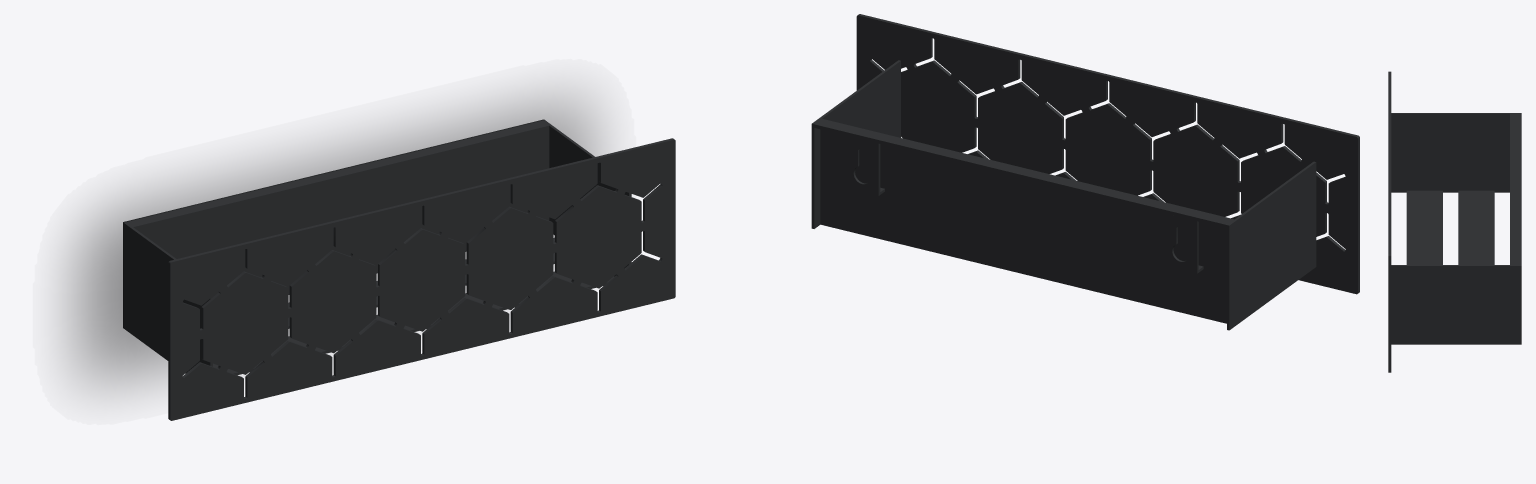
The model's file is bee-mono.d9e0592496.ar.glb.
The picture shows the model from 3 angles, left to right: view 1: azimuth 30°, elevation 25°; view 2: azimuth 150°, elevation 25°; view 3: azimuth 270°, elevation 25°; orthographic projection. The views are drawn at different scales.
Visible parts, largest first — view 1: NAUO1, object 2; view 2: NAUO1; view 3: NAUO1.
Part boxes in pixels (<box>): NAUO1: <box>123,119,675,420</box>; object 2: <box>66,96,602,387</box>; NAUO1: <box>811,14,1359,330</box>; NAUO1: <box>1388,71,1521,372</box>.
Bounding box in the file's own units: 0.38 × 0.17 × 0.092.
Materials: 2 (1 with a texture image).
